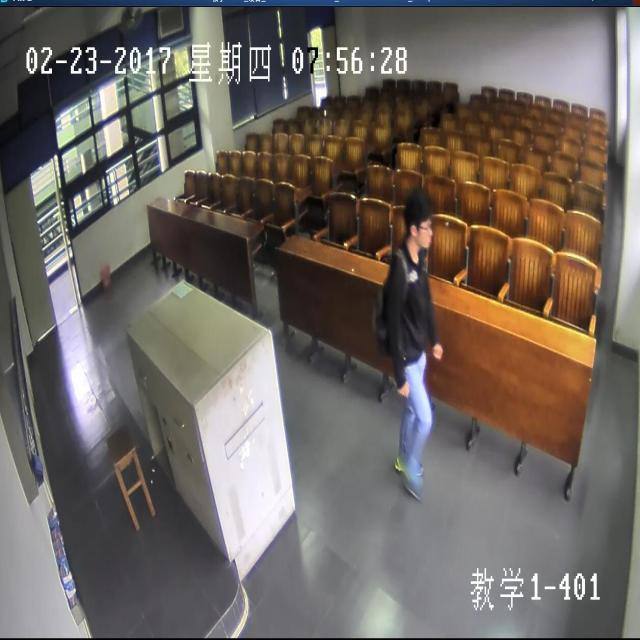person: (404, 190, 434, 249)
